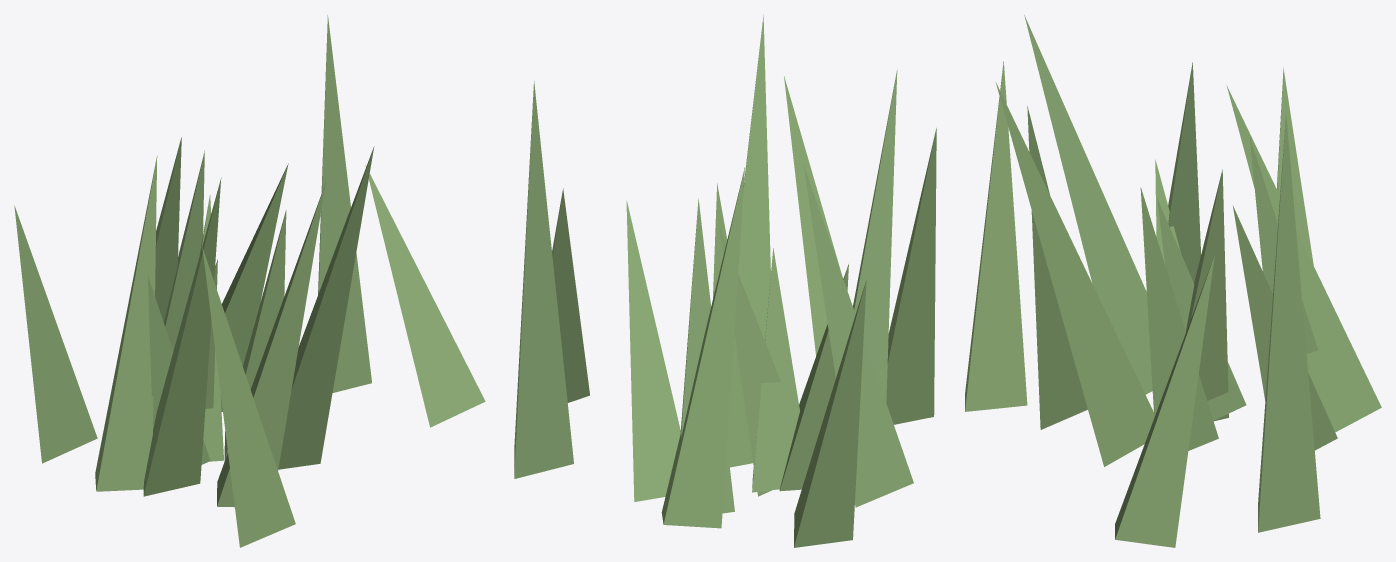
File: grass_alpine.glb
3 views of the same model, side by side, from view 1: azimuth 30°, elevation 25°; view 2: azimuth 150°, elevation 25°; view 3: azimuth 270°, elevation 25° (orthographic). The views are drawn at different scales.
Visible parts, largest first — view 1: Grass_Alpine; view 2: Grass_Alpine; view 3: Grass_Alpine.
Boxes of the visible parts, x1=… form: Grass_Alpine: x1=14, y1=15, x2=485, y2=547; Grass_Alpine: x1=514, y1=15, x2=936, y2=547; Grass_Alpine: x1=965, y1=15, x2=1381, y2=547.
Size of the model in its own units: 0.3611 by 0.3259 by 0.3004.
